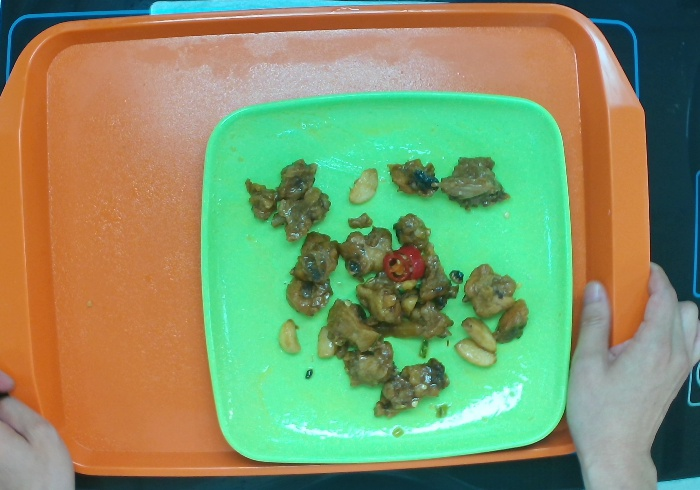ZNLD-Lv_Fang_Pan: (192, 79, 582, 471)
